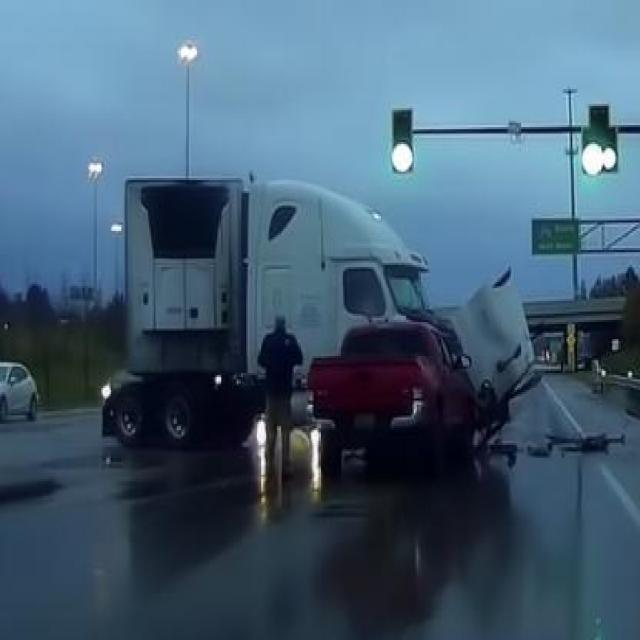accident: (97, 148, 545, 506)
